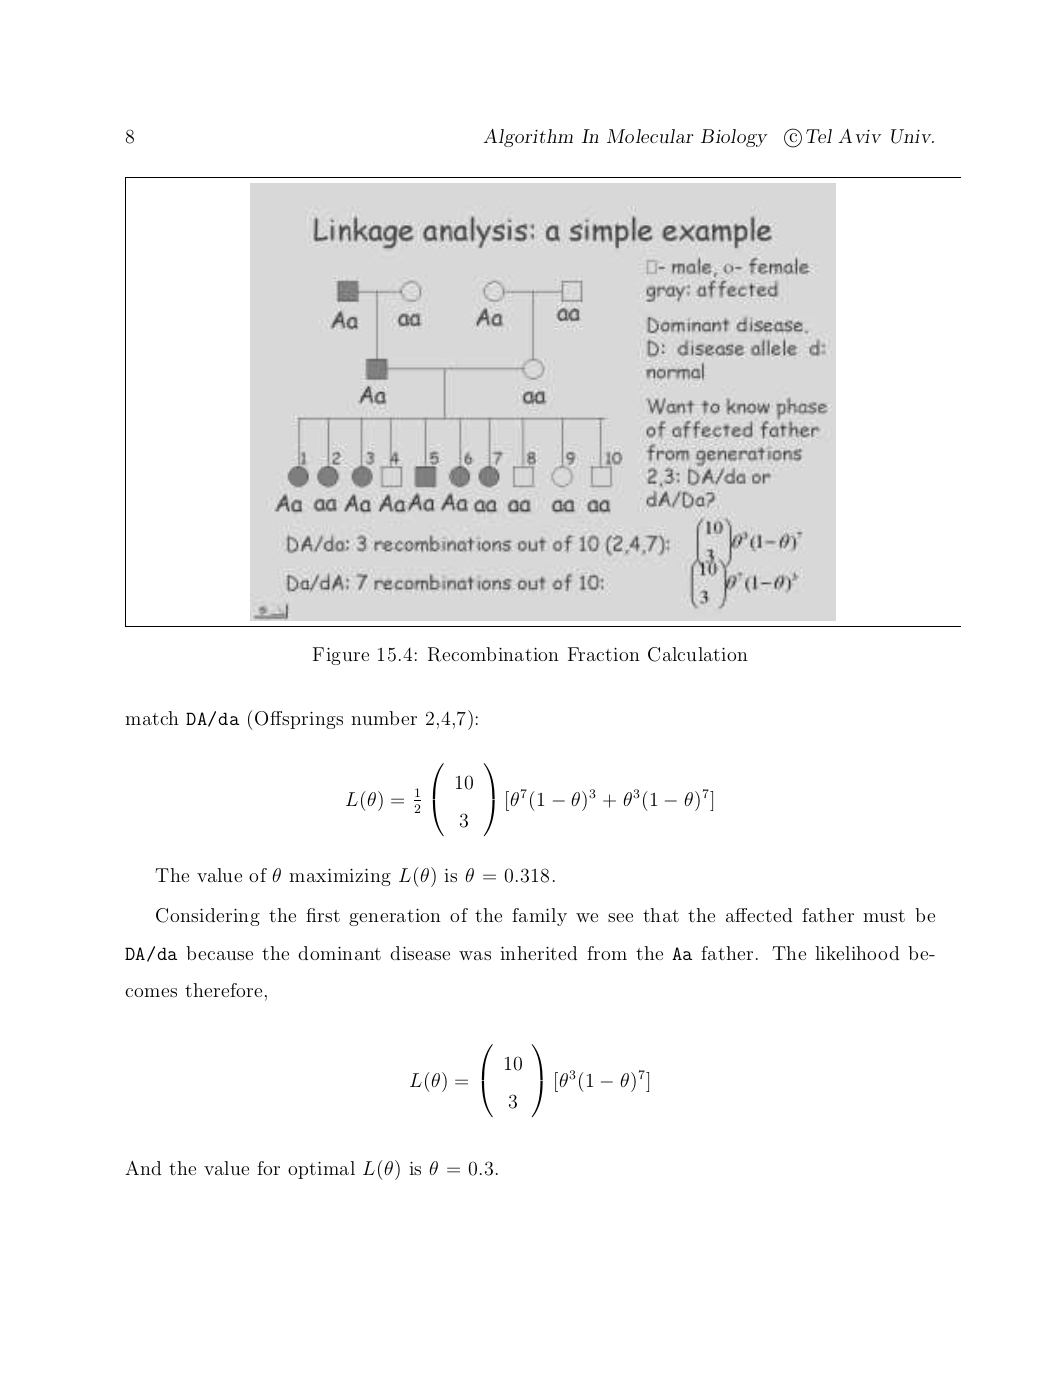figure: (250, 183, 835, 620)
formula: (345, 762, 713, 837), (410, 1043, 649, 1118)
